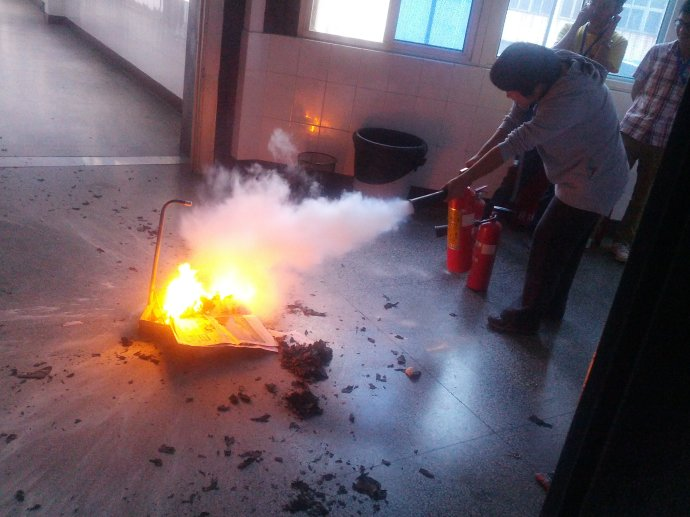fire: (147, 247, 277, 329)
